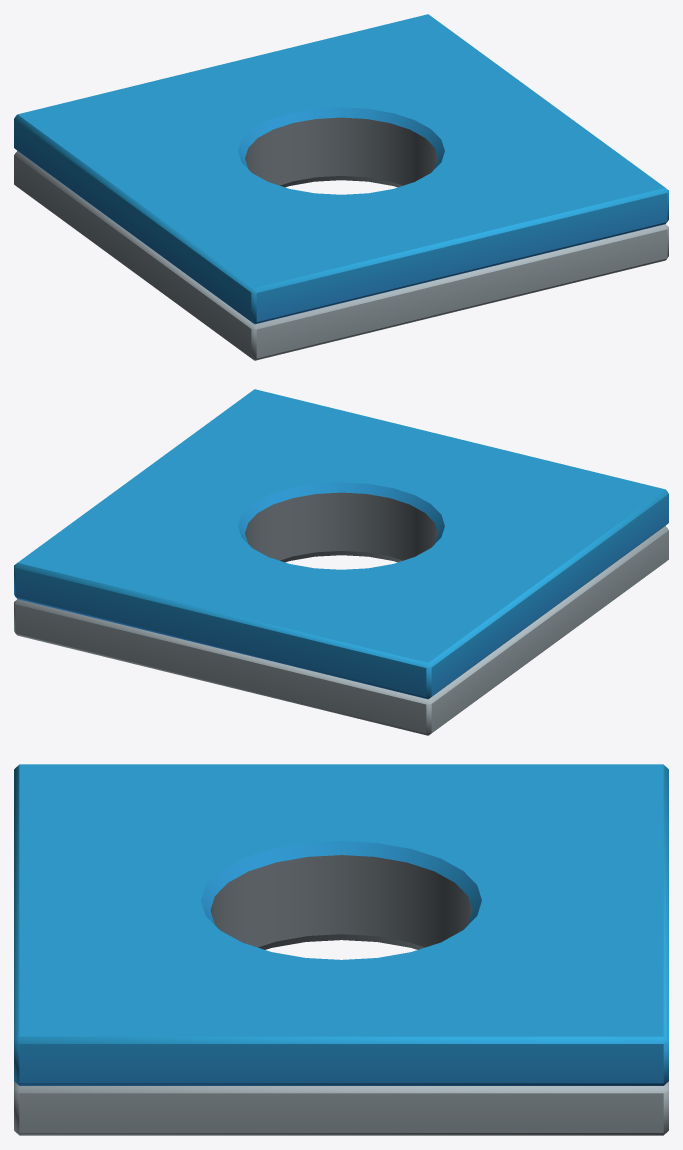
File: platform-hole-6x6x1-blue.glb
The picture shows the model from 3 angles, top to bottom: view 1: azimuth 30°, elevation 25°; view 2: azimuth 150°, elevation 25°; view 3: azimuth 270°, elevation 25°; orthographic projection. The views are drawn at different scales.
Parts seen in each view (by area): view 1: platform_hole_6x6x1_blue; view 2: platform_hole_6x6x1_blue; view 3: platform_hole_6x6x1_blue.
Boxes of the visible parts, <box> form: platform_hole_6x6x1_blue: <box>14,14,668,360</box>; platform_hole_6x6x1_blue: <box>14,389,668,735</box>; platform_hole_6x6x1_blue: <box>14,764,668,1135</box>.
Size of the model in its own units: 6 by 1 by 6.
1 material, 1 textured.
